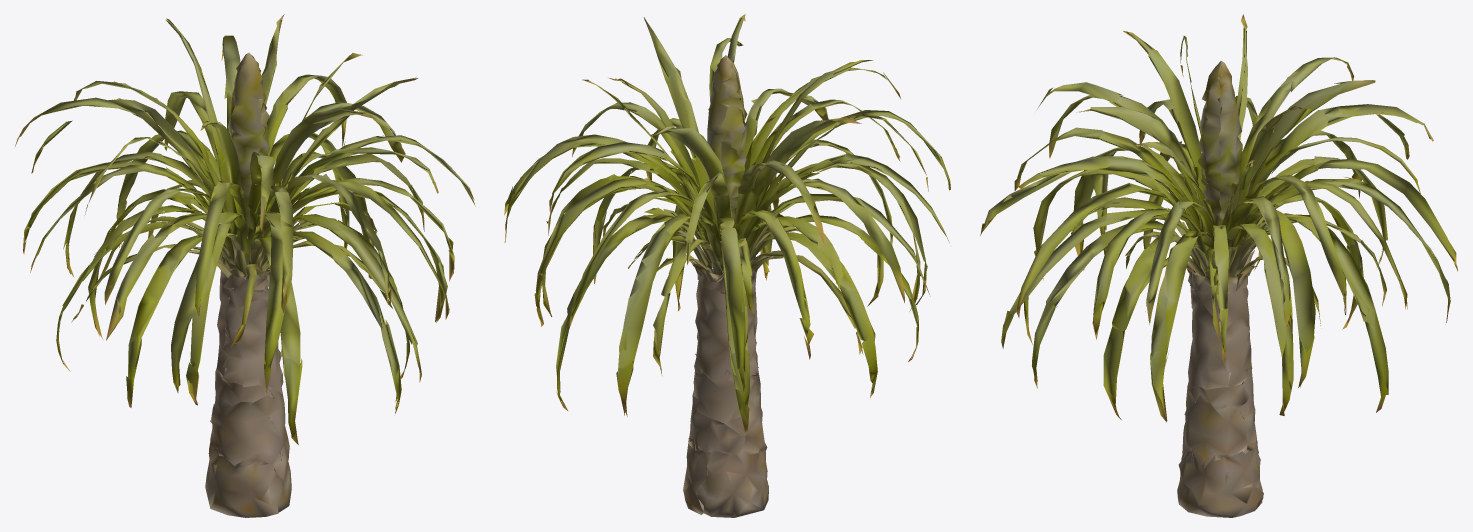
Rendered from triassic-pleuromeia.glb.
3 renders of one model, left to right at view 1: azimuth 30°, elevation 25°; view 2: azimuth 150°, elevation 25°; view 3: azimuth 270°, elevation 25°, orthographic.
Visible parts, largest first — view 1: pleuromeia; view 2: pleuromeia; view 3: pleuromeia.
Part boxes in pixels (x1,y1,x2,y2): pleuromeia: (15, 14, 475, 517); pleuromeia: (504, 14, 950, 517); pleuromeia: (980, 14, 1457, 517).
Bounding box in the file's own units: 1.81 × 2 × 1.96.
